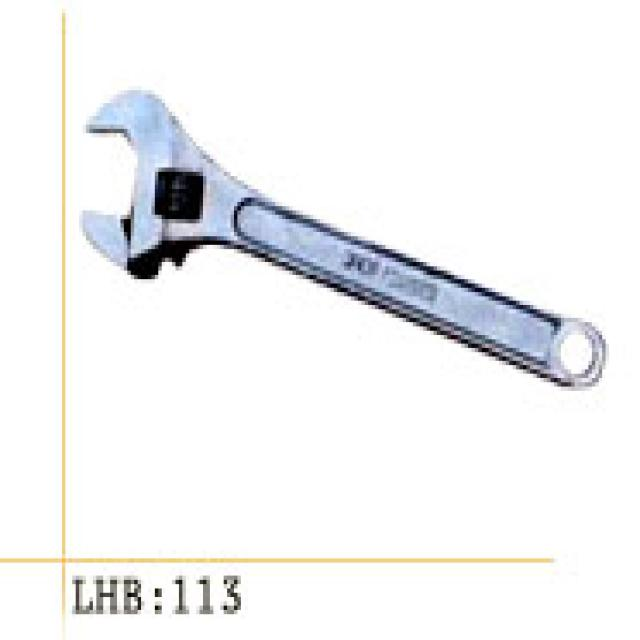wrench: (75, 72, 618, 398)
